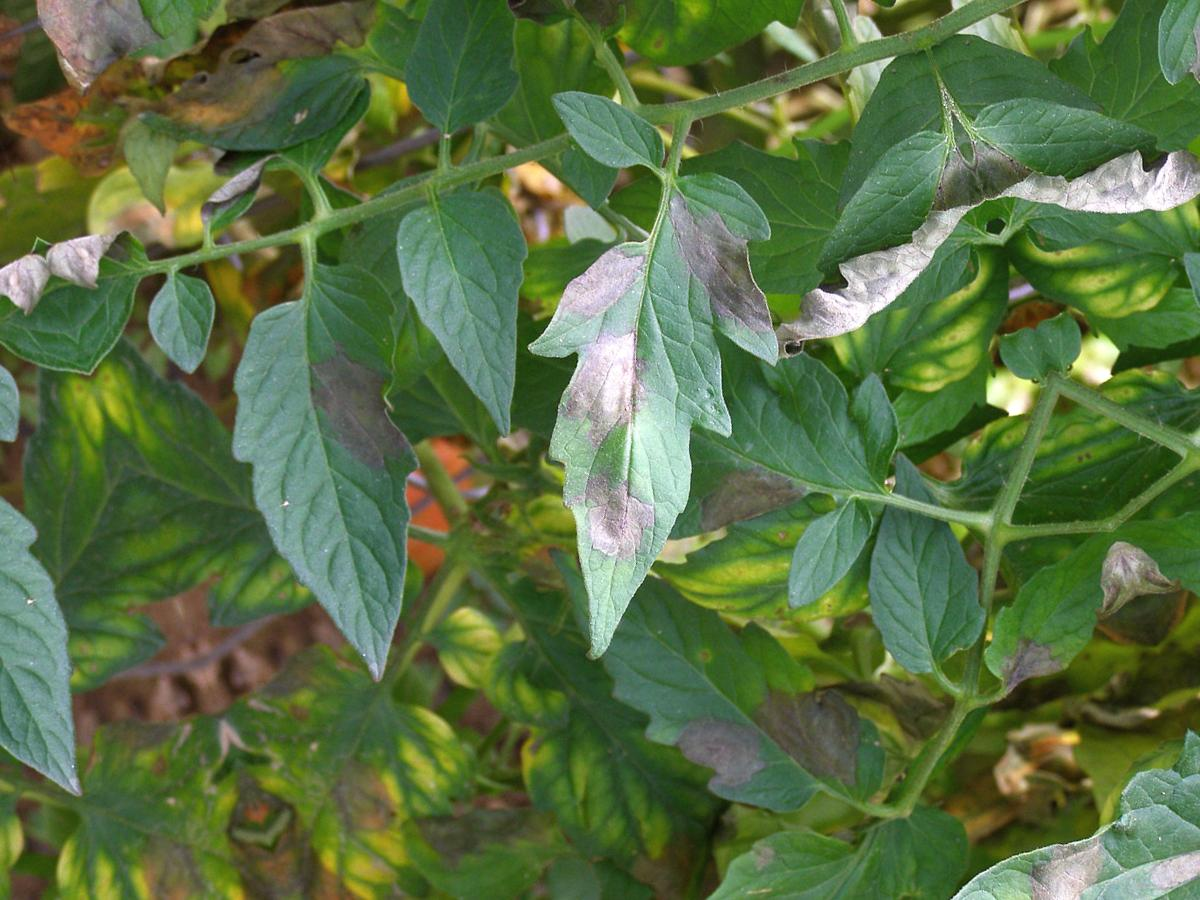Tomato leaf late blight: (449, 146, 867, 650), (171, 238, 504, 713), (573, 494, 912, 872), (504, 754, 1020, 900), (368, 0, 832, 113), (145, 19, 406, 193), (944, 528, 1149, 712)
